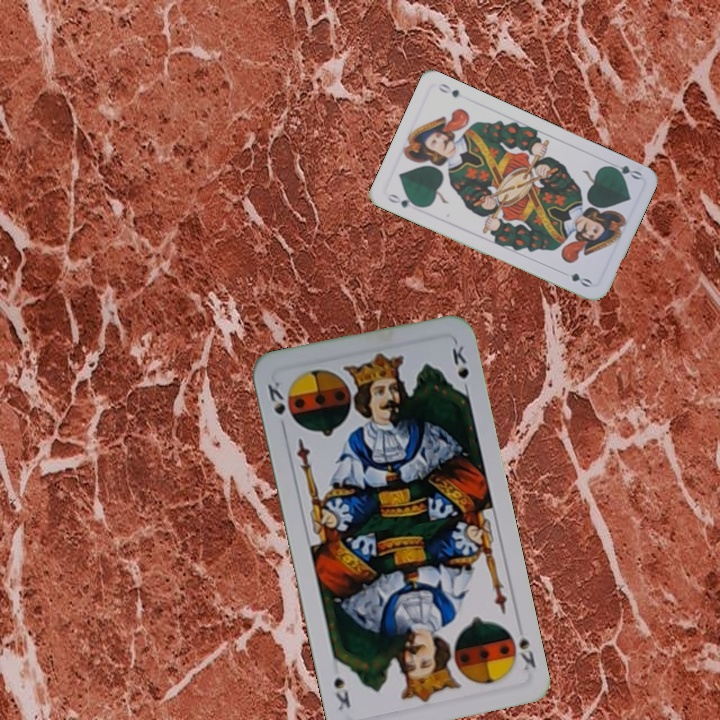GO: (604, 158, 644, 182), (383, 190, 423, 211)
SK: (263, 377, 289, 434), (515, 633, 539, 677)
